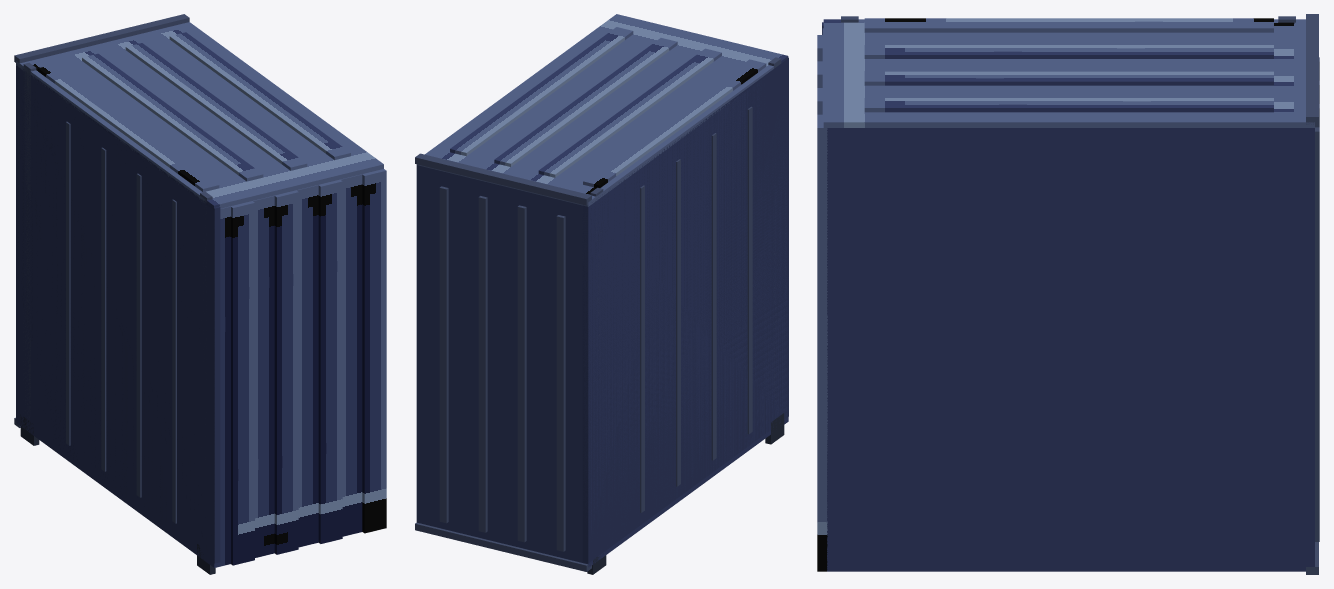
File: CMU3DFreightRMCContainerBlueLeft.glb
3 renders of one model, left to right at view 1: azimuth 30°, elevation 25°; view 2: azimuth 150°, elevation 25°; view 3: azimuth 270°, elevation 25°, orthographic. The views are drawn at different scales.
Parts seen in each view (by area): view 1: closed cargo shell, source-painted corrugated roof, outer end wall, painted corrugation 8, painted corrugation 6, painted corrugation 4, painted corrugation 2, painted corrugation 7, painted corrugation 5, painted corrugation 3, end wall rib (×4), painted corrugation 1 (+6 smaller); view 2: closed cargo shell, outer end wall, source-painted corrugated roof, rear wall corrugation (×4), end wall rib (×4), rear horizontal frame (×2), source-painted roof ridge 2, source-painted roof ridge 3, source-painted roof ridge 1, source-painted roof ridge 4; view 3: closed cargo shell, source-painted corrugated roof, source-painted roof ridge 1, source-painted roof ridge 3, source-painted roof ridge 4, source-painted roof ridge 2, painted corrugation 8, rear wall corrugation, rear horizontal frame.
Boxes of the visible parts, x1,y1,x2,y2 form: closed cargo shell: [16, 66, 212, 565]; source-painted corrugated roof: [16, 22, 383, 209]; outer end wall: [16, 64, 220, 563]; painted corrugation 8: [362, 169, 386, 533]; painted corrugation 6: [318, 179, 342, 543]; painted corrugation 4: [274, 190, 298, 554]; painted corrugation 2: [231, 201, 254, 565]; painted corrugation 7: [340, 174, 362, 536]; painted corrugation 5: [296, 185, 318, 547]; painted corrugation 3: [253, 195, 274, 557]; end wall rib (×4): [66, 121, 176, 523]; painted corrugation 1: [212, 206, 230, 567]; closed cargo shell: [416, 78, 786, 567]; outer end wall: [582, 57, 788, 563]; source-painted corrugated roof: [416, 14, 788, 206]; rear wall corrugation (×4): [439, 186, 565, 551]; end wall rib (×4): [640, 106, 752, 512]; rear horizontal frame (×2): [415, 153, 591, 571]; source-painted roof ridge 2: [538, 48, 721, 177]; source-painted roof ridge 3: [494, 38, 677, 166]; source-painted roof ridge 1: [583, 59, 766, 187]; source-painted roof ridge 4: [450, 27, 633, 156]; closed cargo shell: [827, 128, 1314, 571]; source-painted corrugated roof: [823, 19, 1314, 127]; source-painted roof ridge 1: [864, 18, 1273, 32]; source-painted roof ridge 3: [864, 71, 1273, 85]; source-painted roof ridge 4: [864, 98, 1273, 112]; source-painted roof ridge 2: [864, 45, 1273, 58]; painted corrugation 8: [817, 114, 827, 571]; rear wall corrugation: [1315, 127, 1319, 541]; rear horizontal frame: [1306, 14, 1318, 124].
Bounding box in the file's own units: 0.9768 × 2.05 × 2.
14 materials, 10 textured.
